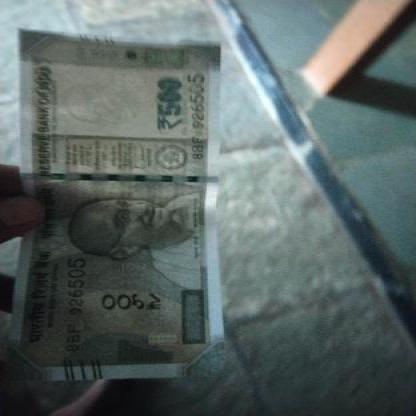New500Front: (16, 29, 219, 375)
